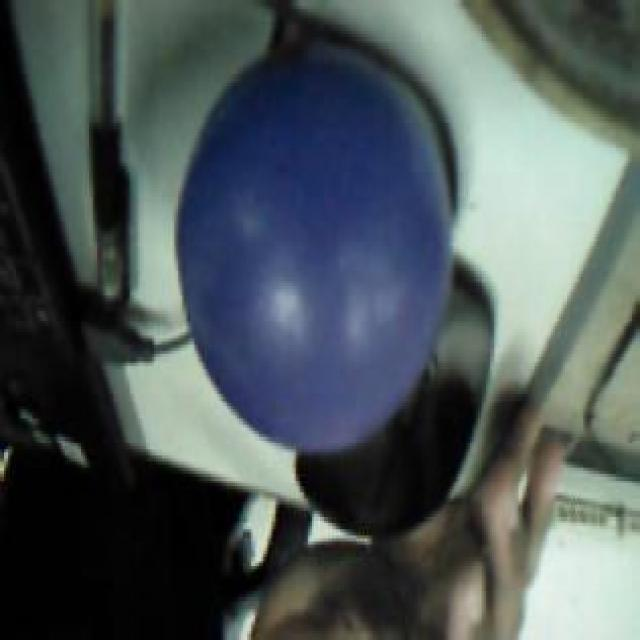BallPurple: (178, 51, 450, 444)
